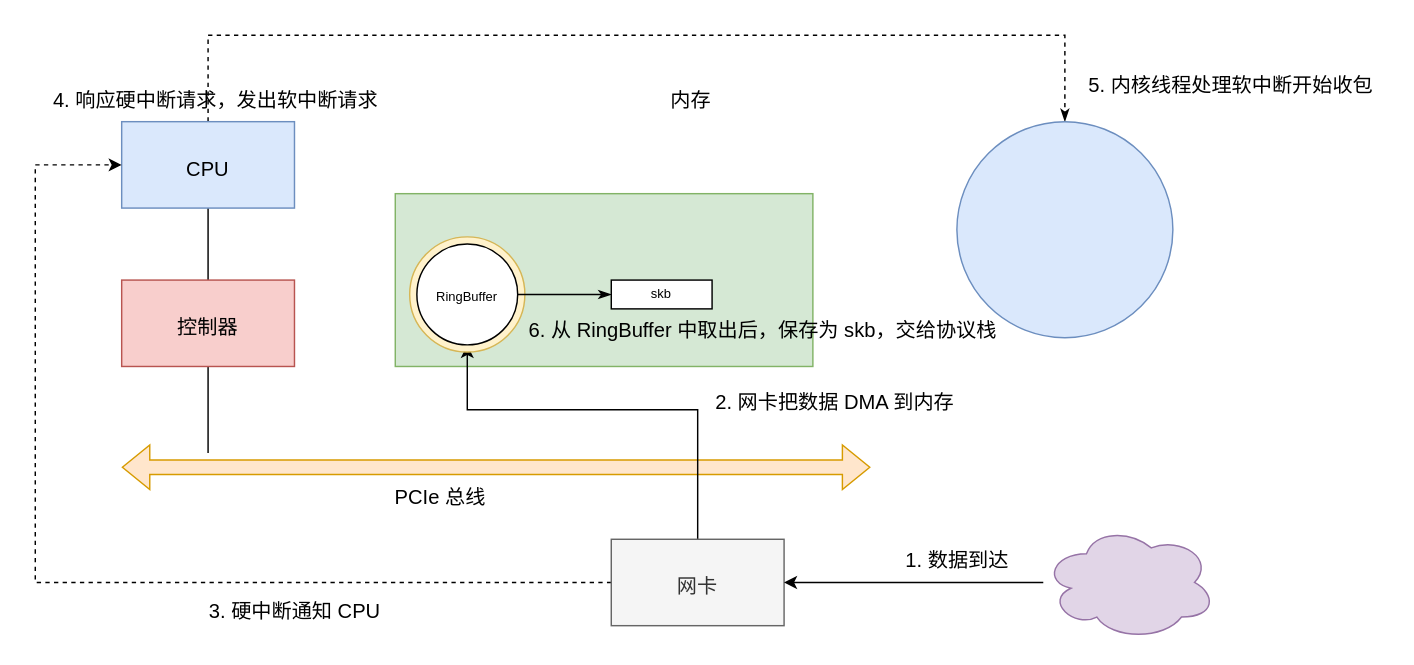
This 1414x665 diagram has some shape labels left out. The centre of each missing label's shape, as x and y in pixels:
"内核线程" belongs at (x=1064, y=229).
"网络" belongs at (x=1129, y=581).
